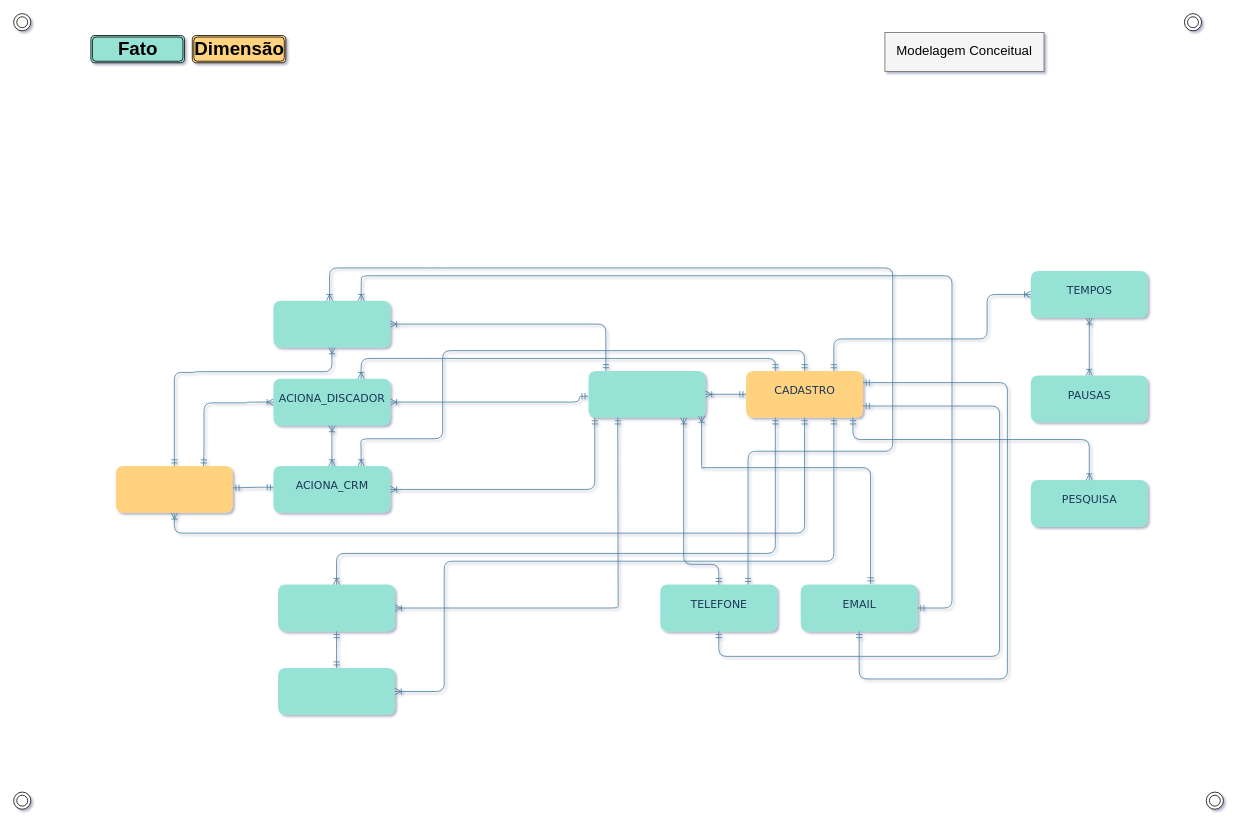
Image size: 1242x828. Some labels were removed from this diagram. Each missing label, with the box of its shape:
ACORDOS: (278, 584, 395, 631)
CARTEIRA: (588, 370, 705, 417)
DEXPARA: (115, 466, 232, 512)
MULTICANAIS: (273, 300, 390, 347)
PAGAMENTOS: (278, 668, 395, 714)
